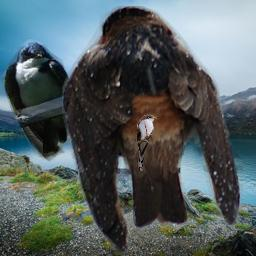Cuckoo: (136, 114, 158, 171)
Swallow: (62, 6, 243, 255), (1, 39, 107, 166)
